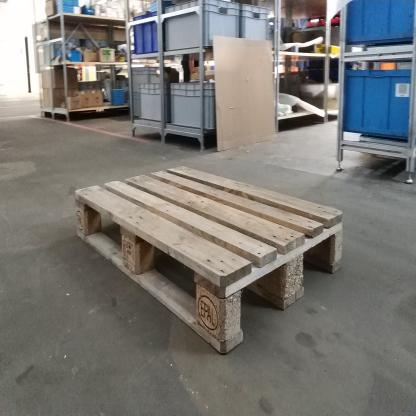BoxFace: (71, 160, 346, 362)
